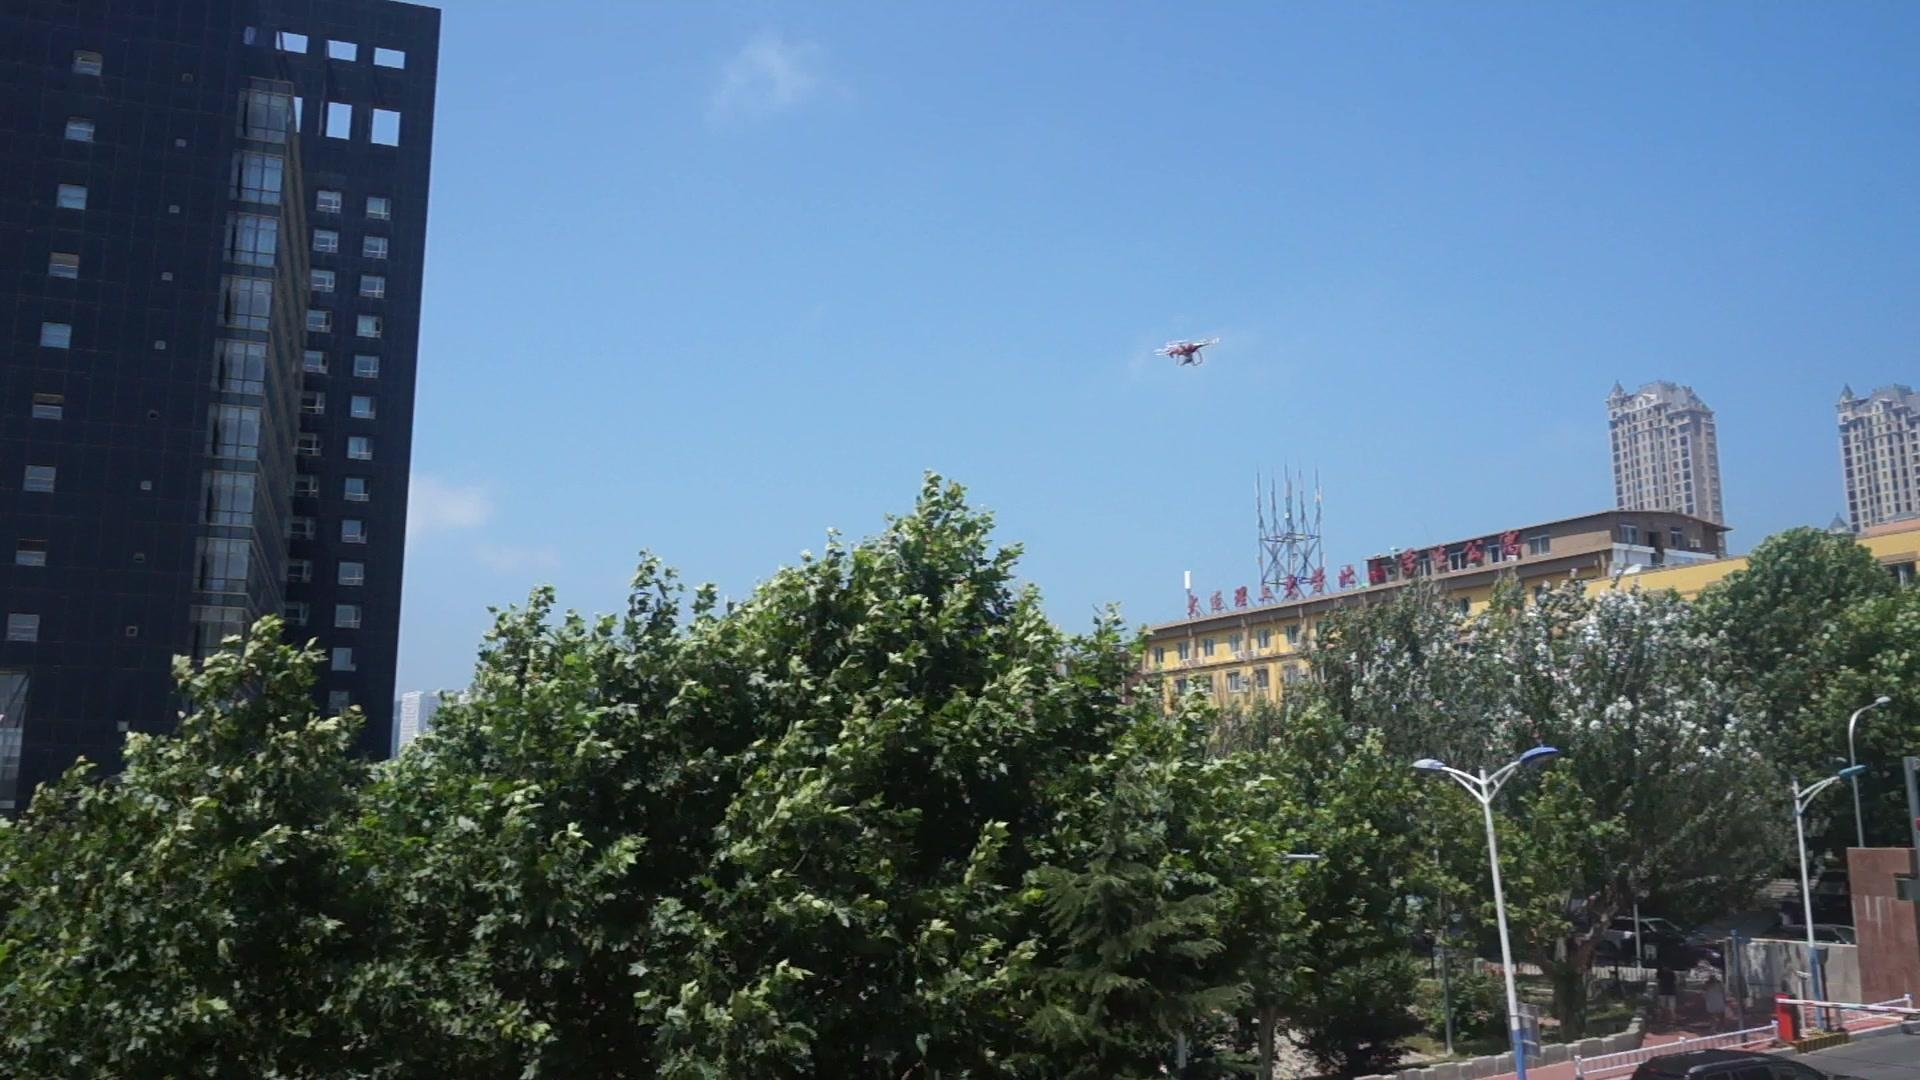UAV: (1153, 338, 1222, 368)
